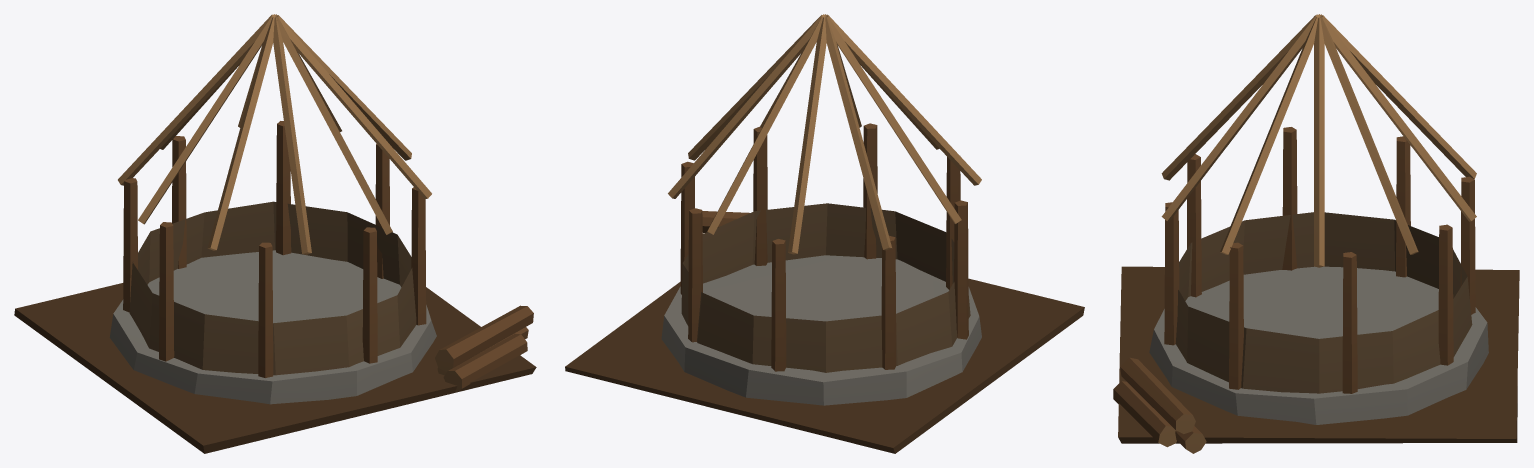
The model's file is house_0_s1.glb.
The picture shows the model from 3 angles, left to right: view 1: azimuth 30°, elevation 25°; view 2: azimuth 150°, elevation 25°; view 3: azimuth 270°, elevation 25°; orthographic projection. The views are drawn at different scales.
Parts seen in each view (by area): view 1: house_0_s1; view 2: house_0_s1; view 3: house_0_s1.
Boxes of the visible parts, x1=… form: house_0_s1: x1=14, y1=14, x2=536, y2=453; house_0_s1: x1=565, y1=14, x2=1084, y2=453; house_0_s1: x1=1113, y1=14, x2=1519, y2=453.
Size of the model in its own units: 2.03 by 1.81 by 1.91.
